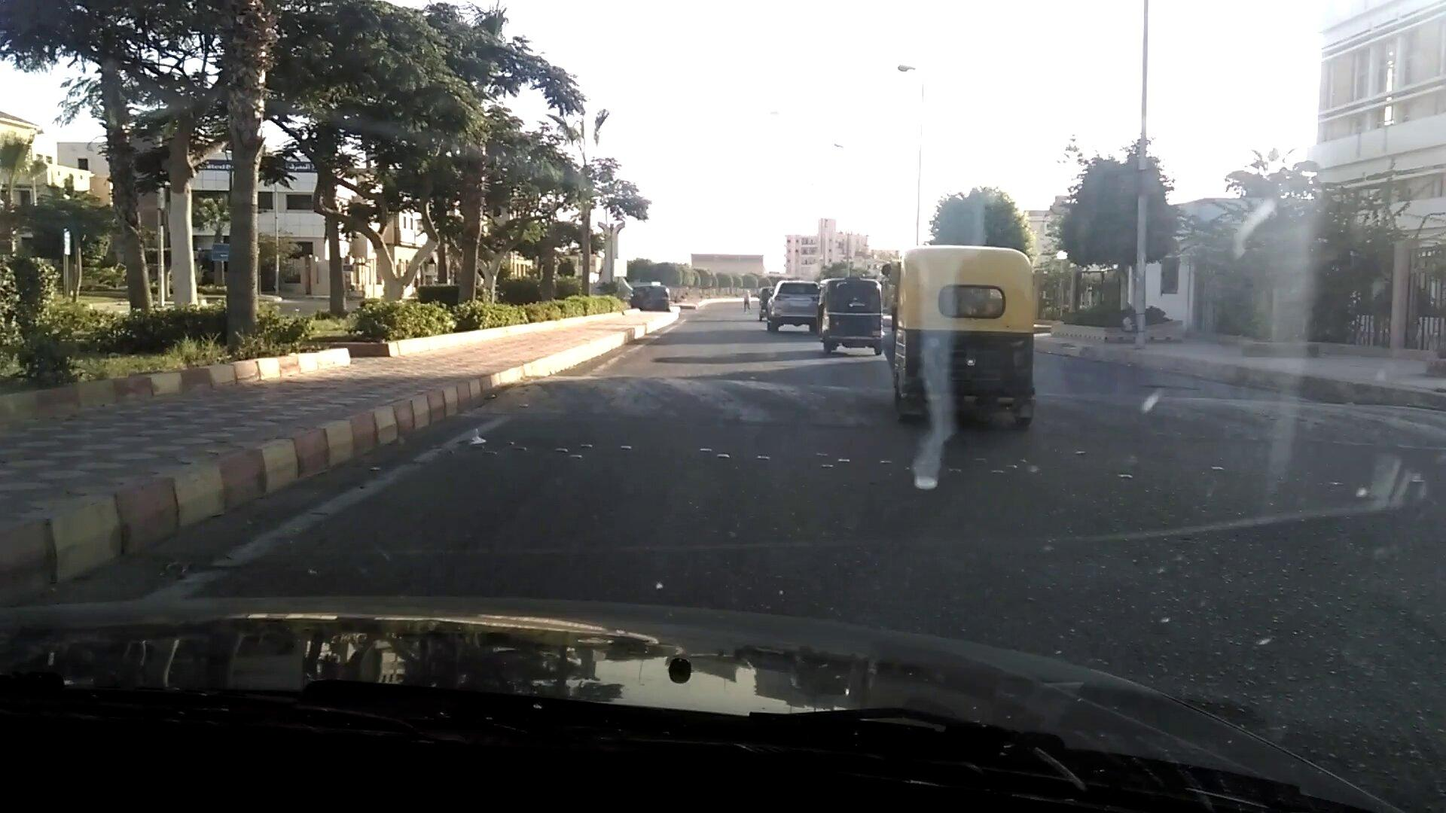Bump: (1032, 391, 1446, 431), (525, 380, 911, 420)
